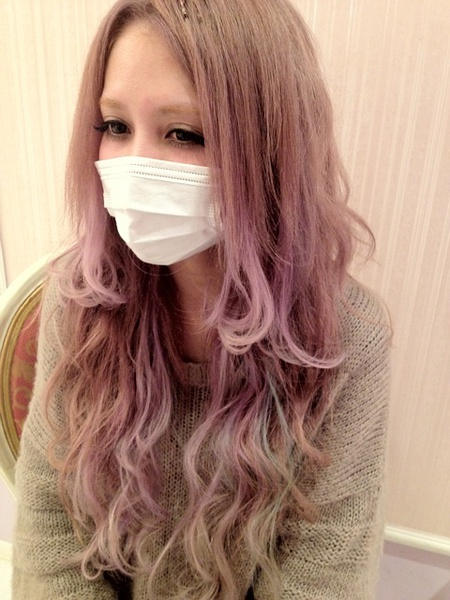face_mask: (97, 7, 241, 272)
